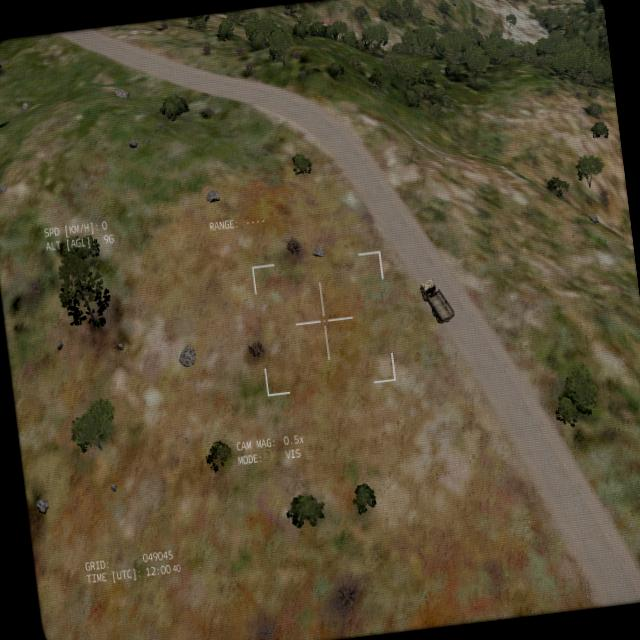truck: (416, 274, 456, 327)
